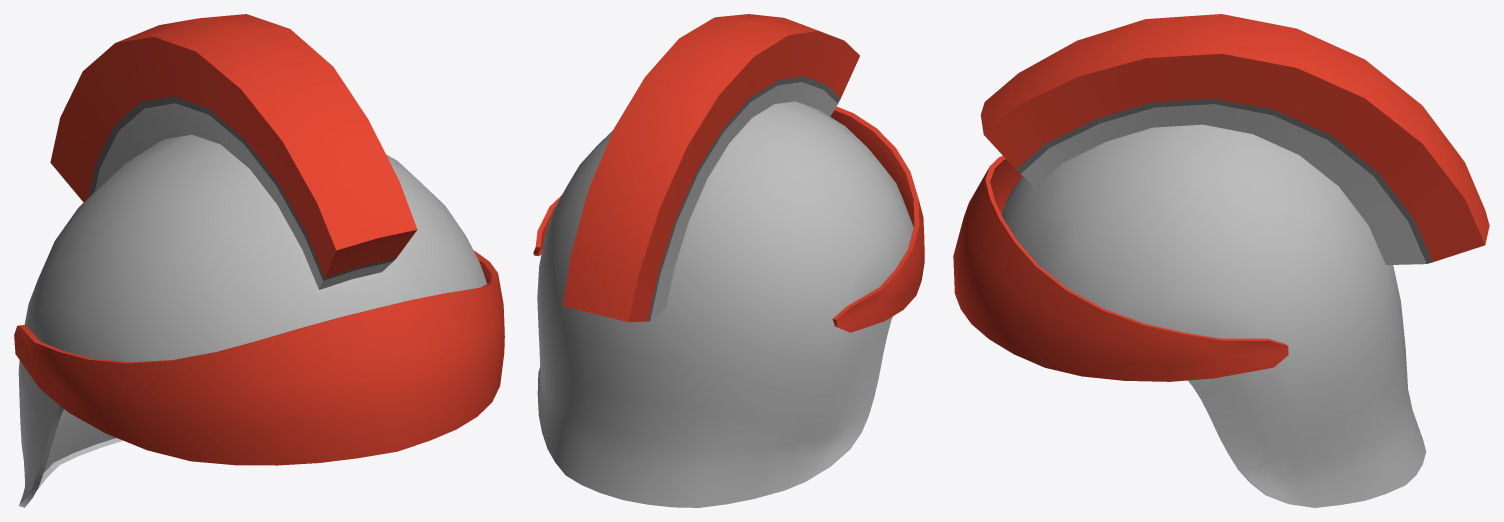
The model's file is Accessory-Helmet-Roman.fbx.
The picture shows the model from 3 angles, left to right: view 1: azimuth 30°, elevation 25°; view 2: azimuth 150°, elevation 25°; view 3: azimuth 270°, elevation 25°; orthographic projection. The views are drawn at different scales.
Parts seen in each view (by area): view 1: Helmet; view 2: Helmet; view 3: Helmet.
Part boxes in pixels (<box>): Helmet: <box>14,14,504,507</box>; Helmet: <box>533,14,924,507</box>; Helmet: <box>953,14,1489,507</box>.
Bounding box in the file's own units: 38 × 42 × 48.
